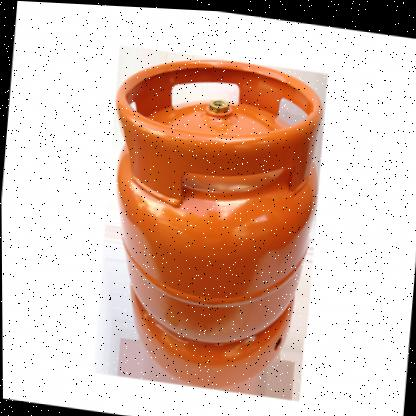gas-tank: (85, 38, 338, 404)
